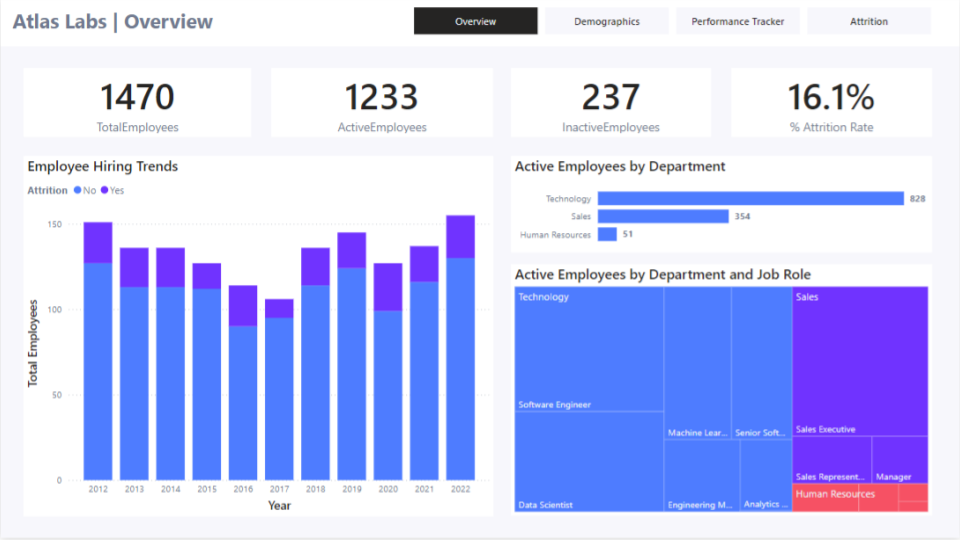

What the dashboard file says about the page in this screenshot:
{"tool":"powerbi","page":{"name":"Overview","canvas":[1280,720],"ordinal":0},"visuals":[{"type":"shape","box":[0,0,1279.8,62.6],"z":0},{"type":"card","fields":{"Values":["_Measures.TotalEmployees"]},"box":[30.3,91.9,304,91.9],"z":1000},{"type":"card","fields":{"Values":["_Measures.ActiveEmployees"]},"box":[361.6,91.9,296,91.9],"z":2000},{"type":"card","fields":{"Values":["_Measures.InactiveEmployees"]},"box":[680.8,91.9,266.7,91.9],"z":3000},{"type":"card","fields":{"Values":["_Measures.% Attrition Rate"]},"box":[974.7,91.9,267.7,91.9],"z":4000},{"type":"columnChart","title":"Employee Hiring Trends","fields":{"Category":["DimDate.Date.Variation.Date Hierarchy.Year","DimDate.Date.Variation.Date Hierarchy.Quarter","DimDate.Date.Variation.Date Hierarchy.Month","DimDate.Date.Variation.Date Hierarchy.Day"],"Y":["_Measures.TotalEmployeesDate"],"Series":["DimEmployee.Attrition"]},"box":[30.3,209.1,627.3,481.8],"z":5000},{"type":"clusteredBarChart","title":"Active Employees by Department","fields":{"Y":["_Measures.ActiveEmployees"],"Category":["DimEmployee.Department"]},"box":[680.8,209.1,561.6,129.3],"z":6000},{"type":"treemap","title":"Active Employees by Department and Job Role","fields":{"Group":["DimEmployee.Department"],"Values":["_Measures.ActiveEmployees"],"Details":["DimEmployee.JobRole"]},"box":[680.8,354.5,561.6,336.4],"z":7000},{"type":"pageNavigator","box":[551.5,11.1,690.9,36.4],"z":8000},{"type":"textbox","box":[10.1,5.1,292.9,51.5],"z":9000}]}

Visuals, with their boxes in screenshot pixels (x1, y1, x2, y2), scaled from the page's 1280x720 canvas onto the 960x540 screenshot:
shape: pyautogui.locateOnScreen(0, 0, 959, 47)
card - _Measures.TotalEmployees: pyautogui.locateOnScreen(23, 69, 251, 138)
card - _Measures.ActiveEmployees: pyautogui.locateOnScreen(271, 69, 493, 138)
card - _Measures.InactiveEmployees: pyautogui.locateOnScreen(511, 69, 711, 138)
card - _Measures.% Attrition Rate: pyautogui.locateOnScreen(731, 69, 932, 138)
"Employee Hiring Trends" columnChart: pyautogui.locateOnScreen(23, 157, 493, 518)
"Active Employees by Department" clusteredBarChart: pyautogui.locateOnScreen(511, 157, 932, 254)
"Active Employees by Department and Job Role" treemap: pyautogui.locateOnScreen(511, 266, 932, 518)
pageNavigator: pyautogui.locateOnScreen(414, 8, 932, 36)
textbox: pyautogui.locateOnScreen(8, 4, 227, 42)
